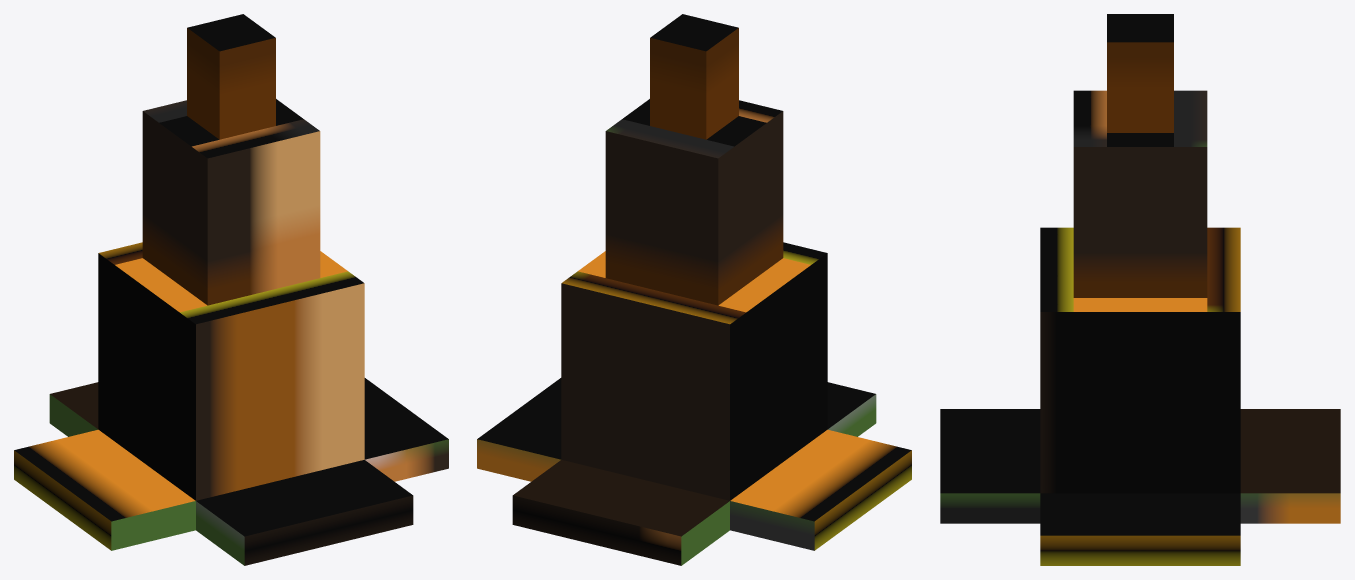
File: ObstacleCone.fbx
The picture shows the model from 3 angles, left to right: view 1: azimuth 30°, elevation 25°; view 2: azimuth 150°, elevation 25°; view 3: azimuth 270°, elevation 25°; orthographic projection. The views are drawn at different scales.
Parts seen in each view (by area): view 1: Cone; view 2: Cone; view 3: Cone.
Boxes of the visible parts, bbox=[...] form: Cone: bbox=[14, 14, 448, 565]; Cone: bbox=[477, 14, 911, 565]; Cone: bbox=[940, 14, 1340, 565].
Size of the model in its own units: 12 by 15 by 12.
1 material, 1 textured.
